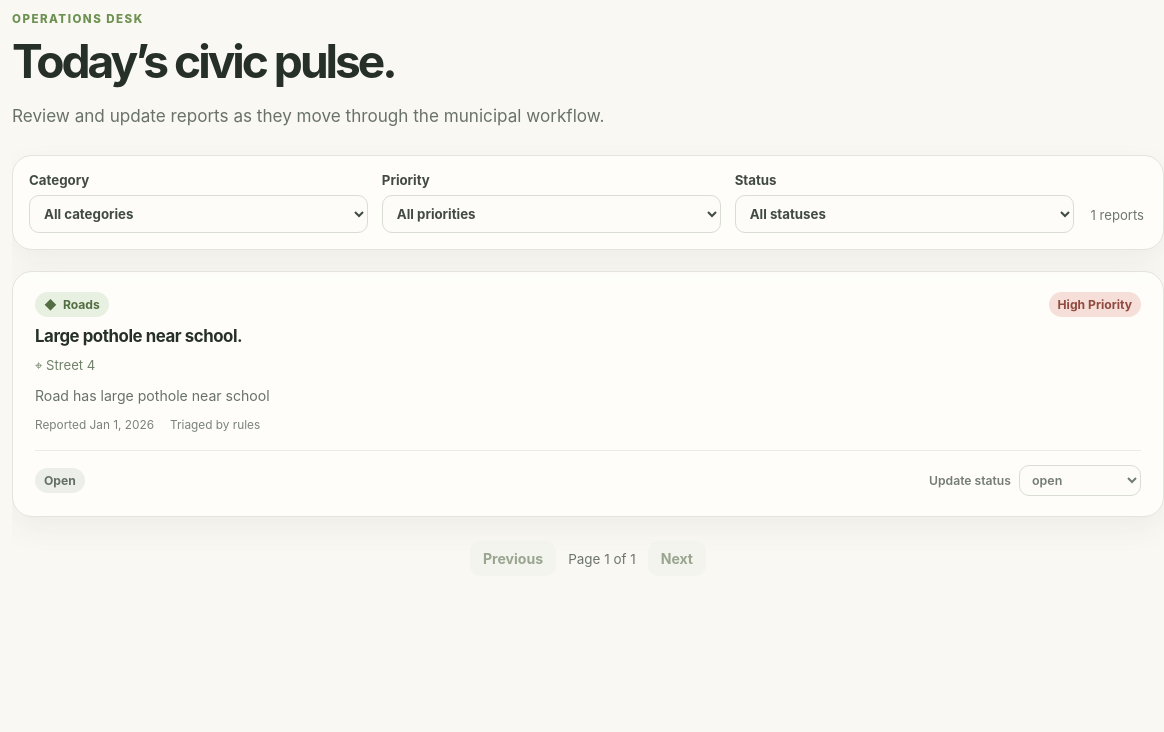
it: DashboardView › surfaces the exact 409 detail from the backend
Expected: the heading "Large pothole near school." is shown, [35,326,242,346]
Select "resolved" in the dropdown named "Update status for a1" at (1080, 481), box [1019,465,1141,496]
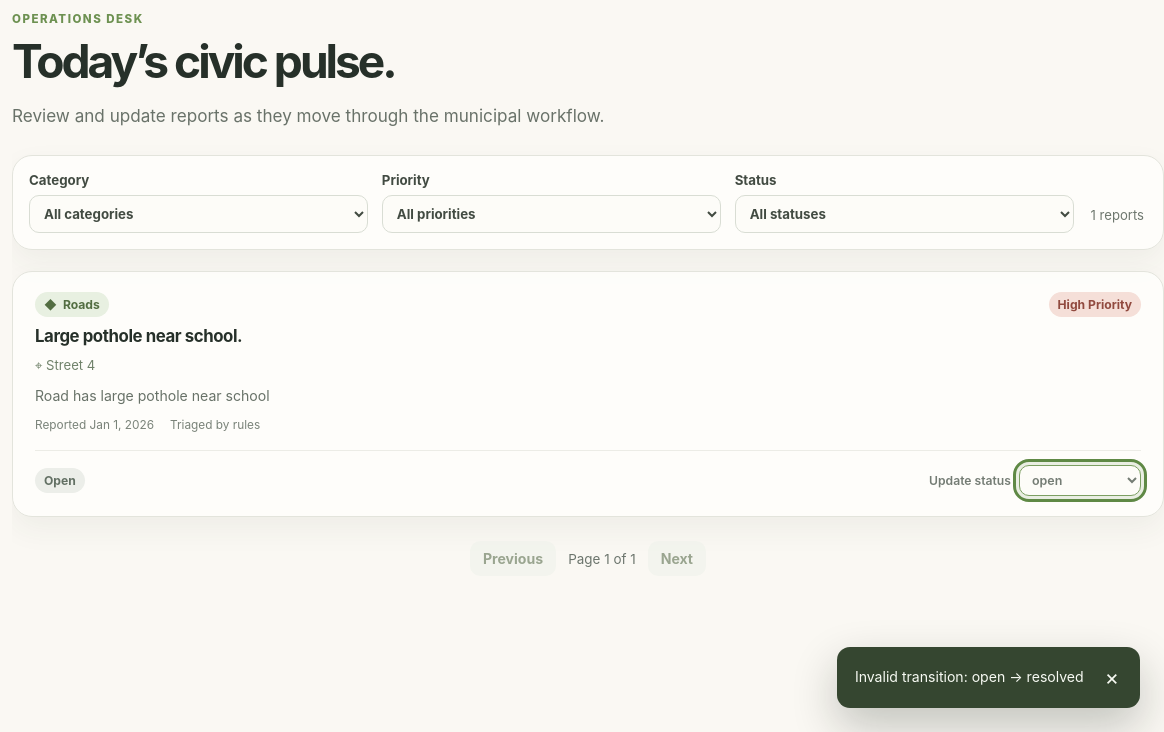
Expected: the message shows "Invalid transition: open -> resolved", [855,668,1084,685]
